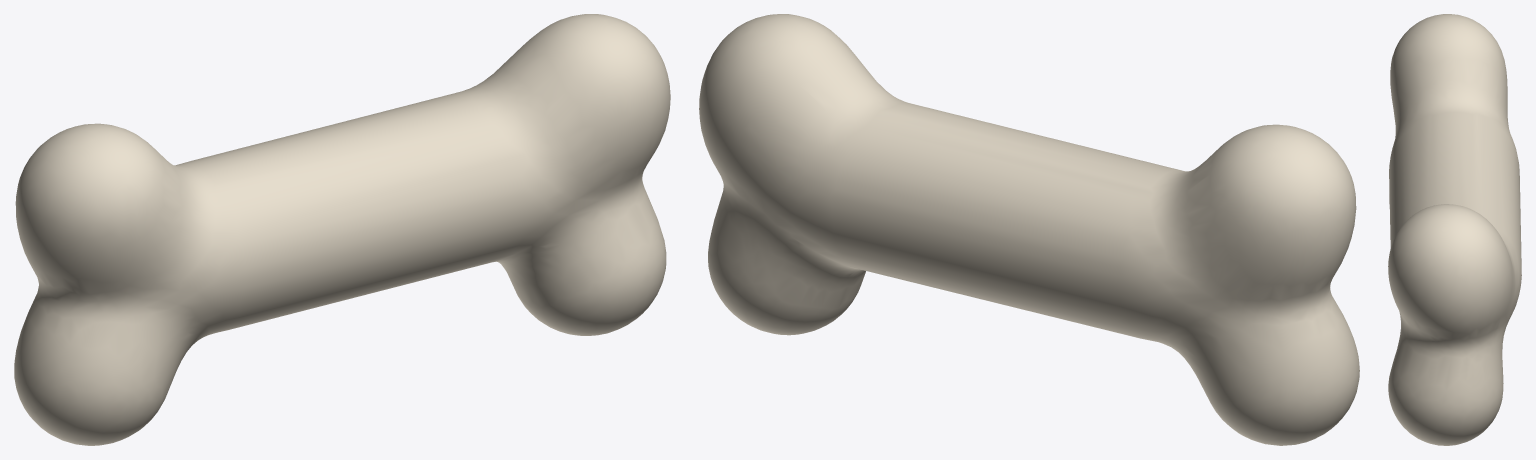
File: BONE.fbx
3 renders of one model, left to right at view 1: azimuth 30°, elevation 25°; view 2: azimuth 150°, elevation 25°; view 3: azimuth 270°, elevation 25°, orthographic. The views are drawn at different scales.
Parts seen in each view (by area): view 1: bone_v1.0; view 2: bone_v1.0; view 3: bone_v1.0.
Part boxes in pixels (left/top/right/bottom): bone_v1.0: left=14, top=14, right=670, bottom=445; bone_v1.0: left=699, top=14, right=1359, bottom=445; bone_v1.0: left=1388, top=14, right=1521, bottom=445.
Size of the model in its own units: 234 by 111 by 56.27.
